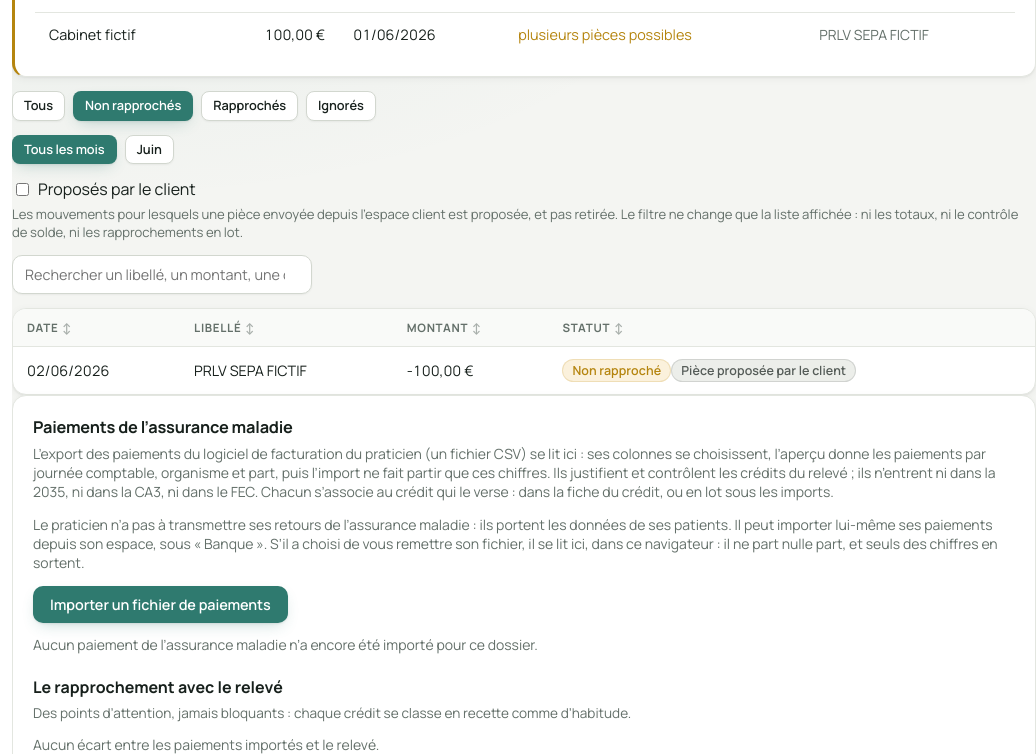
Scenario: « Écarter cette proposition » : offert sur la pièce proposée par le client › sur sa carte, avec « Associer » ; pas sur une pièce proposée par le cabinet, ni quand le mouvement la retient
This screenshot has width=1036, height=754.
(page scrolled)
Click the text "PRLV SEPA FICTIF" next to "02/06/2026".
click(286, 370)  # box [180, 346, 393, 394]
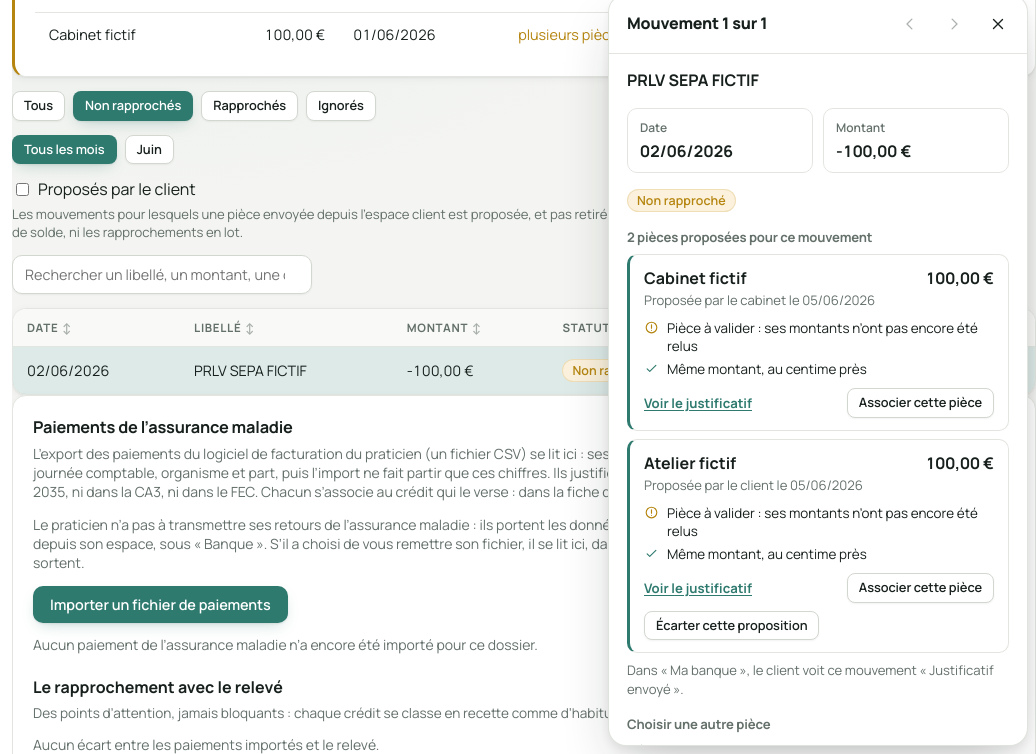
Now the button "Écarter cette proposition" is shown, box [644, 611, 819, 640]
Now the button "Associer cette pièce" below "Proposée par le client le 05/06/2026" is shown, box [847, 573, 994, 603]
